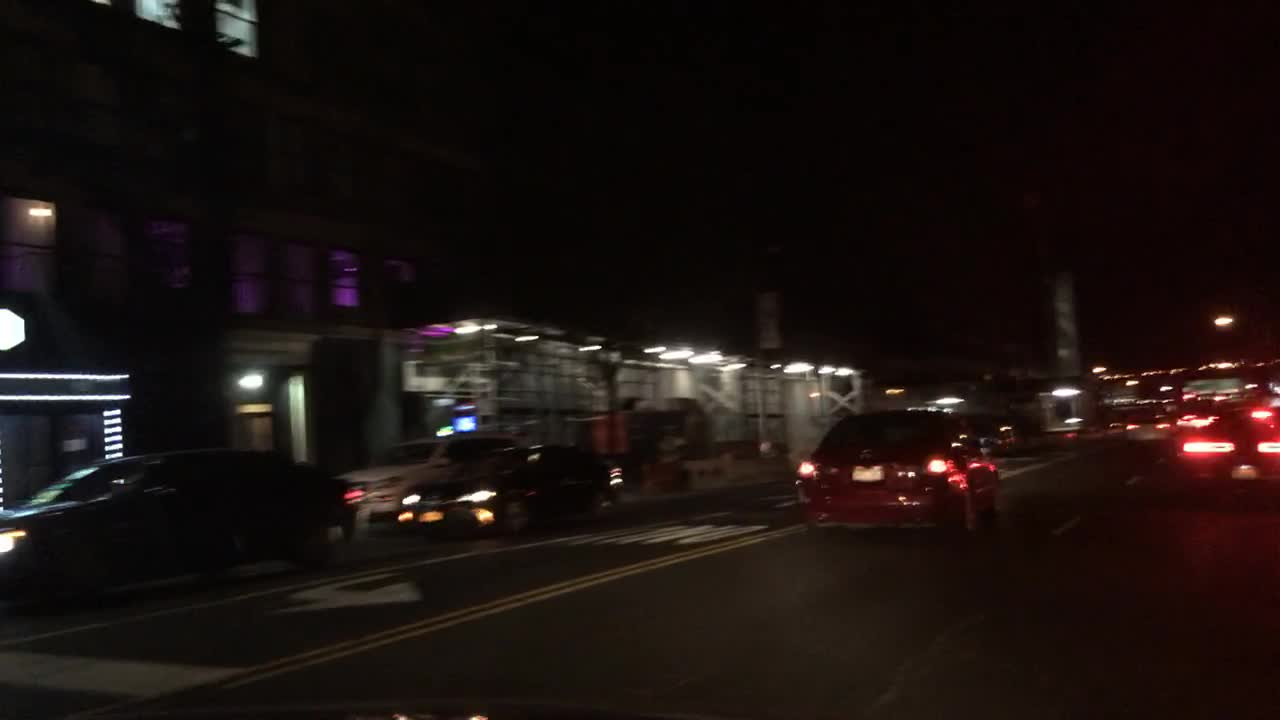car: (0, 442, 341, 598), (796, 406, 1000, 539), (393, 441, 624, 542), (338, 426, 522, 531), (1175, 395, 1276, 493), (1118, 405, 1177, 453), (960, 412, 1021, 454)
traffic sign: (757, 289, 778, 349)
